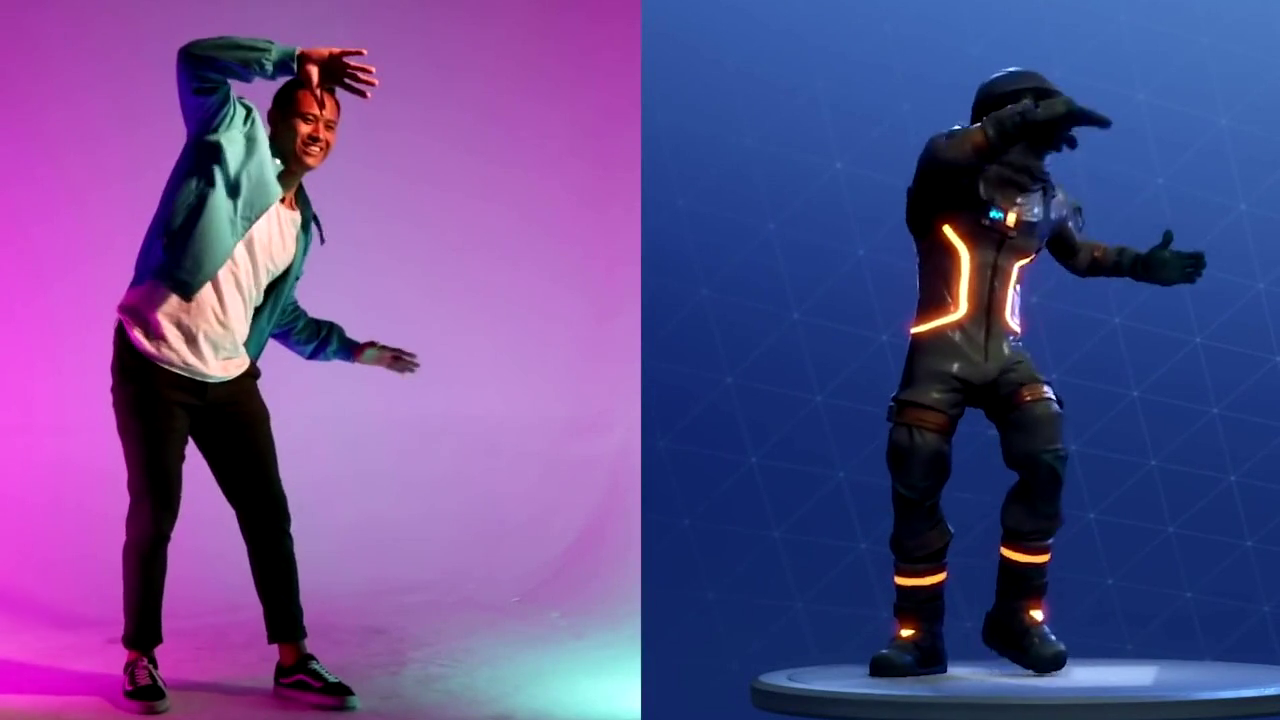Head: (282, 74, 350, 173)
Hip: (91, 324, 314, 450)
LeftAnkle: (233, 610, 361, 712)
LeftKnee: (209, 469, 315, 549)
LeftWrist: (342, 303, 453, 392)
RightAnkle: (92, 629, 199, 716)
RightElbow: (157, 29, 255, 94)
RightKnee: (112, 474, 213, 568)
RightWrist: (284, 29, 382, 113)
Torso: (175, 134, 308, 390)
